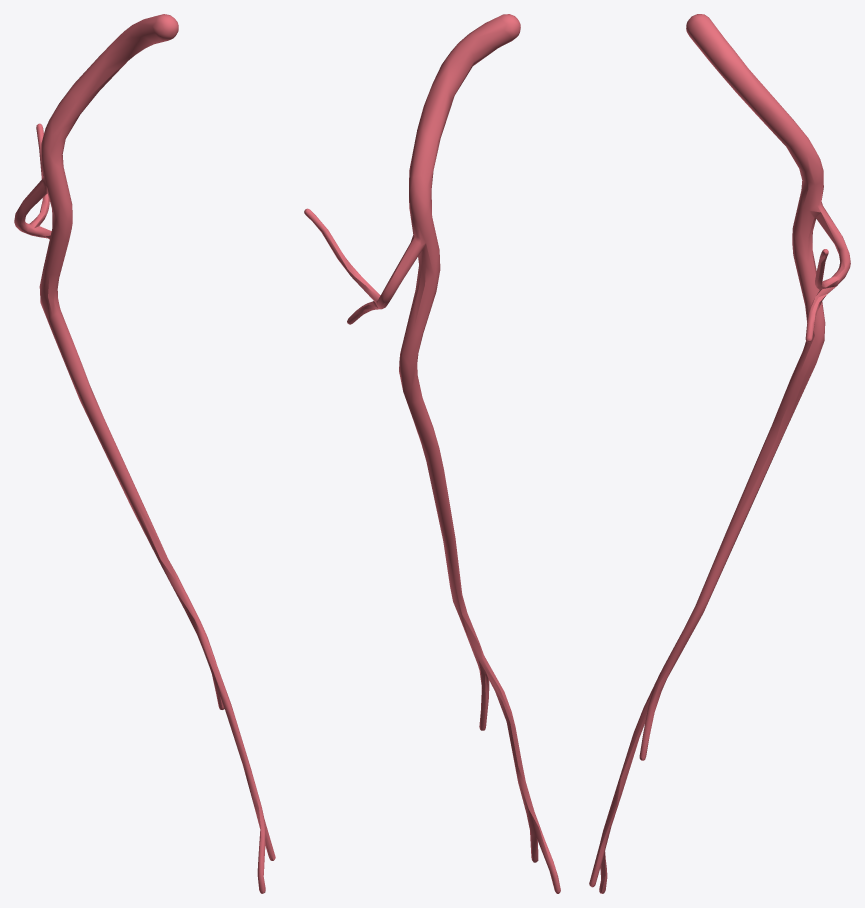
Rendered from fma70493_fj3481.glb.
3 views of the same model, side by side, from view 1: azimuth 90°, elevation 25°; view 2: azimuth 150°, elevation 25°; view 3: azimuth 270°, elevation 25° (orthographic). The views are drawn at different scales.
Visible parts, largest first — view 1: FMA70493_FJ3481; view 2: FMA70493_FJ3481; view 3: FMA70493_FJ3481.
Part boxes in pixels (x1=…): FMA70493_FJ3481: x1=14, y1=14, x2=275, y2=893; FMA70493_FJ3481: x1=304, y1=14, x2=560, y2=893; FMA70493_FJ3481: x1=589, y1=14, x2=850, y2=893.
Size of the model in its own units: 0.0117 by 0.0688 by 0.0186.
